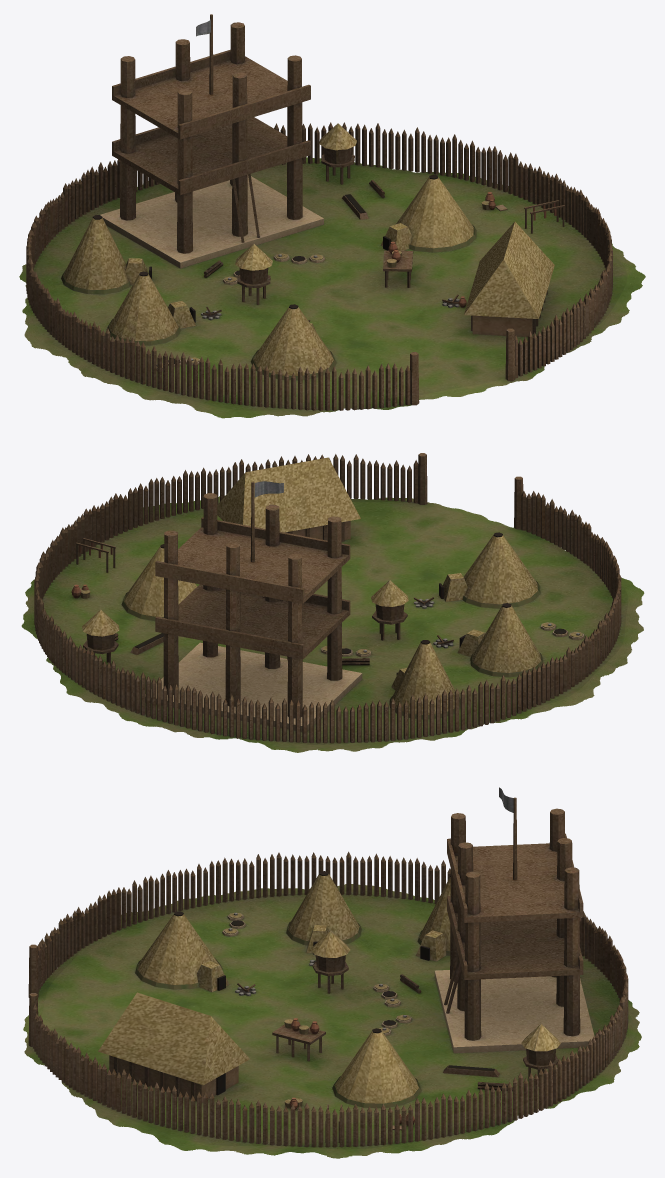
File: stone-town-small-b-japan.glb
The picture shows the model from 3 angles, top to bottom: view 1: azimuth 30°, elevation 25°; view 2: azimuth 150°, elevation 25°; view 3: azimuth 270°, elevation 25°; orthographic projection. The views are drawn at different scales.
Parts seen in each view (by area): view 1: LOD0; view 2: LOD0; view 3: LOD0.
Part boxes in pixels (x1,y1,x2,y2): LOD0: [19, 14, 645, 418]; LOD0: [21, 453, 644, 752]; LOD0: [23, 787, 641, 1158].
Size of what is drawn, in the model's own units: 3.99 by 1.45 by 3.84.
Materials: 3 (3 with a texture image).
